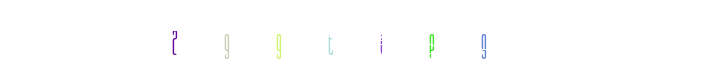2: (134, 0, 214, 80)
G: (247, 0, 327, 80), (263, 0, 343, 80), (392, 0, 472, 80)
I: (312, 0, 392, 80)
P: (391, 0, 471, 80)
T: (308, 0, 388, 80)
